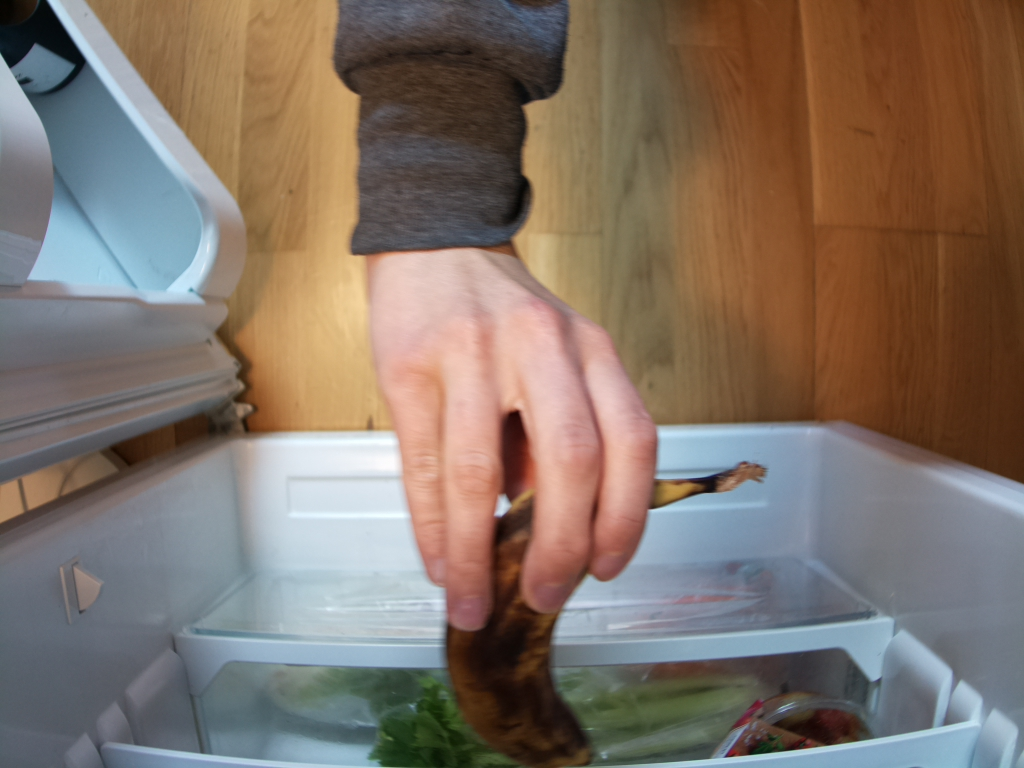banana-overripe: (438, 459, 773, 768)
